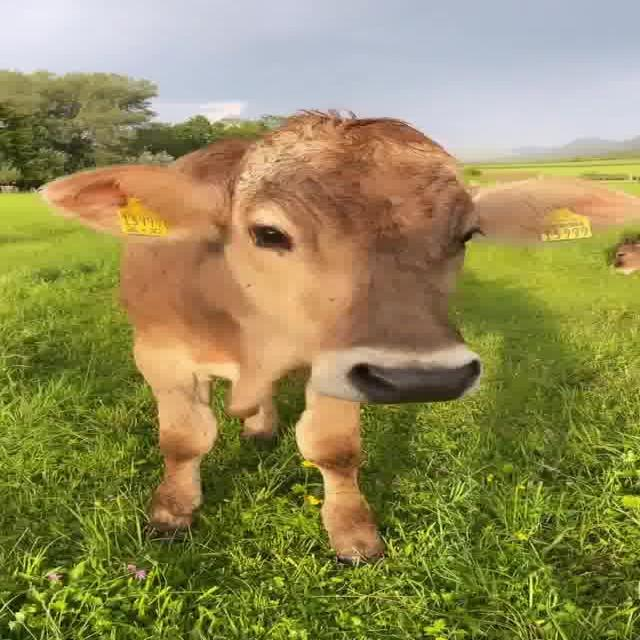cowFace: (33, 115, 624, 388)
